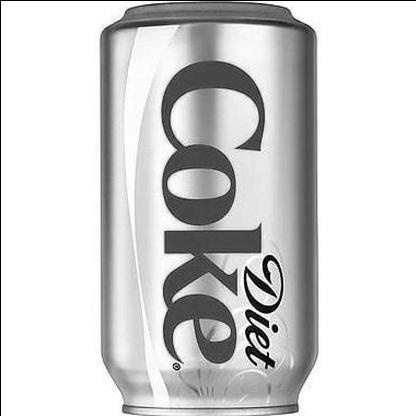alumunium_can: (95, 0, 318, 415)
